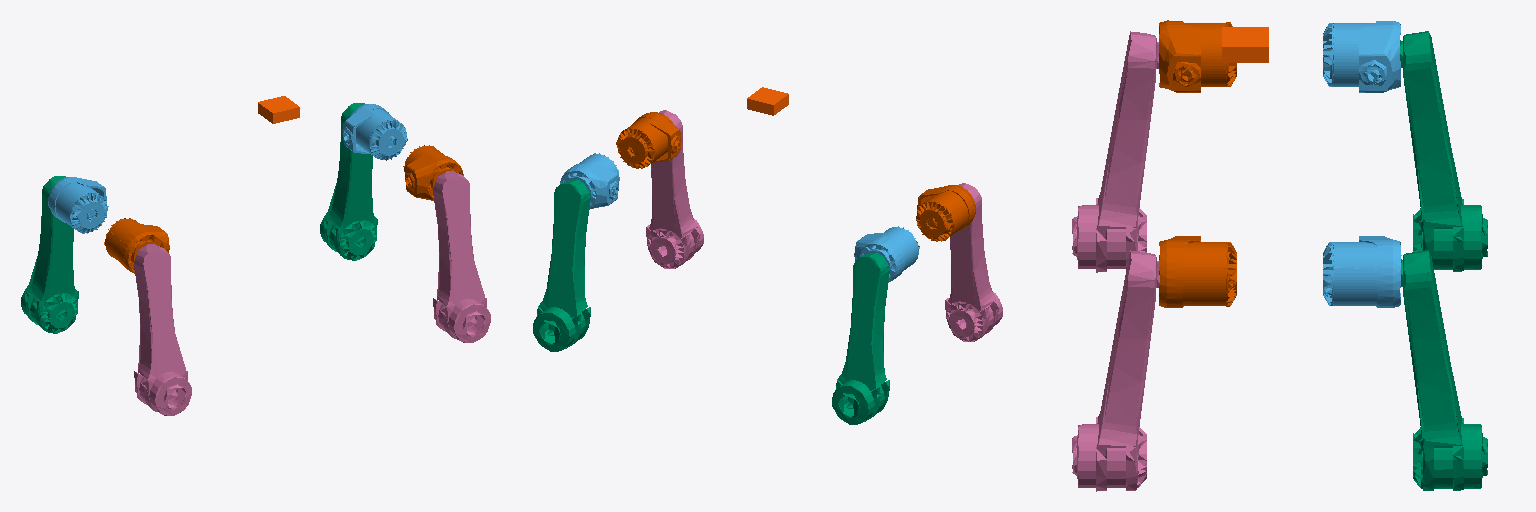
--- Render facts (derived) ---
3 views of the same robot in one strip: view 1: azimuth 30°, elevation 25°; view 2: azimuth 150°, elevation 25°; view 3: azimuth 270°, elevation 25° (orthographic).
Model anymal with 18 links and 17 joints (12 revolute, 5 fixed), rooted at base, posed every joint at zero.
Visible links, largest first — view 1: RH_THIGH, RF_THIGH, LH_THIGH, LF_THIGH, LF_HIP, LH_HIP, RH_HIP, RF_HIP, imu_link; view 2: LH_THIGH, LF_THIGH, RH_THIGH, RF_THIGH, RF_HIP, RH_HIP, LH_HIP, LF_HIP, imu_link; view 3: LF_THIGH, RF_THIGH, LH_THIGH, RH_THIGH, LF_HIP, RF_HIP, LH_HIP, RH_HIP, imu_link.
Boxes of the visible links, x1,y1,x2,y2 form: RH_THIGH: [134, 244, 191, 415]; RF_THIGH: [433, 171, 490, 342]; LH_THIGH: [21, 176, 78, 333]; LF_THIGH: [320, 103, 377, 260]; LF_HIP: [342, 104, 407, 160]; LH_HIP: [48, 177, 108, 233]; RH_HIP: [104, 218, 169, 273]; RF_HIP: [403, 145, 463, 200]; imu_link: [258, 96, 299, 123]; LH_THIGH: [832, 252, 889, 424]; LF_THIGH: [533, 179, 590, 351]; RH_THIGH: [945, 183, 1002, 341]; RF_THIGH: [646, 110, 703, 268]; RF_HIP: [616, 112, 681, 168]; RH_HIP: [916, 185, 975, 241]; LH_HIP: [854, 226, 919, 282]; LF_HIP: [560, 153, 619, 209]; imu_link: [747, 87, 788, 115]; LF_THIGH: [1401, 250, 1487, 490]; RF_THIGH: [1072, 250, 1159, 491]; LH_THIGH: [1400, 31, 1487, 271]; RH_THIGH: [1072, 31, 1158, 272]; LF_HIP: [1323, 236, 1401, 307]; RF_HIP: [1159, 236, 1236, 307]; LH_HIP: [1323, 21, 1400, 92]; RH_HIP: [1159, 20, 1236, 92]; imu_link: [1222, 27, 1268, 62].
Bounding box of the posed robot: 0.7419 × 0.5156 × 0.4789 m (x, y, z).
Meshes: 8 distinct files referenced, 8 mesh visuals loaded (2 Collada DAE); not drawn: 9 (reference not matched to a file when rendering).

robot.urdf — anymal:
<?xml version="1.0" ?>
<!-- =================================================================================== -->
<!-- |    This document was autogenerated by xacro from [local-path]/catkin_ws/src/anymal_beth/anymal_beth_description/urdf/anymal_beth.urdf.xacro | -->
<!-- |    EDITING THIS FILE BY HAND IS NOT RECOMMENDED                                 | -->
<!-- =================================================================================== -->
<!--Copyright (C) 2015 by Dario Bellicoso                                    -->
<[email redacted]                                                 -->
<!--                                                                         -->
<!--This program is free software; you can redistribute it and/or modify     -->
<!--it under the terms of the Lesser GNU General Public License as published -->
<!--by the Free Software Foundation; either version 3 of the License, or     -->
<!--(at your option) any later version.                                      -->
<!--                                                                         -->
<!--This program is distributed in the hope that it will be useful,          -->
<!--but WITHOUT ANY WARRANTY; without even the implied warranty of           -->
<!--MERCHANTABILITY or FITNESS FOR A PARTICULAR PURPOSE. See the             -->
<!--Lesser GNU General Public License for more details.                      -->
<!--                                                                         -->
<!--You should have received a copy of the Lesser GNU General Public License -->
<!--along with this program. If not, see <http://www.gnu.org/licenses/>.     -->
<!-- This file contains the description of the ANYmal Beth robot. -->
<robot name="anymal" xmlns:xacro="http://www.ros.org/wiki/xacro">
    <material name="black">
        <color rgba="0.0 0.0 0.0 1.0"/>
    </material>
    <material name="blue">
        <color rgba="0.0 0.0 0.8 1.0"/>
    </material>
    <material name="green">
        <color rgba="0.0 0.8 0.0 1.0"/>
    </material>
    <material name="grey">
        <color rgba="0.2 0.2 0.2 1.0"/>
    </material>
    <material name="light_grey">
        <color rgba="0.4 0.4 0.4 1.0"/>
    </material>
    <material name="orange">
        <color rgba="1.0 0.423529411765 0.0392156862745 1.0"/>
    </material>
    <material name="brown">
        <color rgba="0.870588235294 0.811764705882 0.764705882353 1.0"/>
    </material>
    <material name="red">
        <color rgba="0.8 0.0 0.0 1.0"/>
    </material>
    <material name="white">
        <color rgba="1.0 1.0 1.0 1.0"/>
    </material>
    <gazebo>
        <plugin filename="libanymal_gazebo.so" name="gazebo_ros_control">
            <robotNamespace>anymal</robotNamespace>
            <!-- Currently unused -->
            <robotDescription>quadruped_description</robotDescription>
            <robotBaseLink>base</robotBaseLink>
            <statePublisherRate>400.0</statePublisherRate>
        </plugin>
    </gazebo>
    <!-- Material for the visual primitives -->
    <material name="anymal_material">
        <color rgba="0 0 0 0"/>
    </material>
    <!-- Xacro:Properties -->
    <!-- [m] -->
    <!-- Base link -->
    <link name="base">
        <visual>
            <origin rpy="0 0 0" xyz="0 0 0"/>
            <geometry>
                <mesh filename="anymal_base_2.dae" scale="0.001 0.001     0.001"/>
            </geometry>
            <material name="anymal_material"/>
        </visual>
        <collision>
            <!-- Main Body -->
            <origin rpy="0 0 0" xyz="0 0 0.08"/>
            <geometry>
                <box size="0.531 0.232 0.26"/>
            </geometry>
        </collision>
        <inertial>
            <origin rpy="0 0 0" xyz="0.0 0.0 0.0"/>
            <mass value="21.39"/>
            <inertia ixx="0.268388530624" ixy="0.000775392455422" ixz="-0.0151848534451" iyy="0.884235660795" iyz="-0.000989297489507" izz="0.829158678306"/>
        </inertial>
    </link>
    <!-- Xacro:Properties -->
    <!-- [m] -->
    <!-- [Nm] -->
    <link name="LF_HIP">
        <visual>
            <origin rpy="3.14159265359 1.5707963268 3.14159265359" xyz="0 0 0"/>
            <geometry>
                <mesh filename="anymal_hip.dae" scale="0.001 0.001     0.001"/>
            </geometry>
        </visual>
        <collision>
            <origin rpy="1.57079632679 0 0" xyz="0.0585 0.0315 0.0"/>
            <geometry>
                <cylinder length="0.08" radius="0.04"/>
            </geometry>
        </collision>
        <inertial>
            <origin rpy="0 0 0" xyz="0.0542 -0.0136 0.0"/>
            <mass value="1.1064"/>
            <inertia ixx="0.00123301508523" ixy="-6.4285329973e-05" ixz="6.9990104e-08" iyy="0.000993231183395" iyz="2.327401345e-06" izz="0.00142160349098"/>
        </inertial>
    </link>
    <!-- Hip joint -->
    <joint name="LF_HAA" type="revolute">
        <parent link="base"/>
        <child link="LF_HIP"/>
        <origin xyz="0.2629 0.115 0.0"/>
        <axis xyz="1 0 0"/>
        <limit effort="80" lower="-6.28" upper="6.28" velocity="15"/>
        <dynamics damping="0.0" friction="0.0"/>
    </joint>
    <!-- Xacro:Properties -->
    <!-- [m] -->
    <!-- [Nm] -->
    <link name="LF_THIGH">
        <visual>
            <origin rpy="0 0 0" xyz="0 0 0"/>
            <geometry>
                <mesh filename="anymal_thigh.dae" scale="0.001 0.001     0.001"/>
            </geometry>
        </visual>
        <!--collision>
            <origin rpy="0.145 0 0" xyz="0 0.02 -0.1"/>
            <geometry>
                <cylinder length="0.2" radius="0.01"/>
            </geometry>
        </collision-->
        <collision>
            <origin rpy="1.57079632679 0 0" xyz="0.0 0.07 -0.25"/>
            <geometry>
                <cylinder length="0.08" radius="0.04"/>
            </geometry>
        </collision>
        <inertial>
            <origin rpy="0 0 0" xyz="0.0008 0.0545 -0.1975"/>
            <mass value="1.51"/>
            <inertia ixx="0.0147571628275" ixy="-1.7996507882e-05" ixz="0.000205877679383" iyy="0.0144188925719" iyz="-0.00181291342366" izz="0.00178449075964"/>
        </inertial>
    </link>
    <!-- Thigh joint -->
    <joint name="LF_HFE" type="revolute">
        <parent link="LF_HIP"/>
        <child link="LF_THIGH"/>
        <origin xyz="0.0585                    0.0315                    0.0"/>
        <axis xyz="0 1 0"/>
        <limit effort="80" lower="-6.28" upper="6.28" velocity="15"/>
        <dynamics damping="0.0" friction="0.0"/>
    </joint>
    <!-- Xacro:Properties -->
    <!-- [m] -->
    <!-- [Nm] -->
    <link name="LF_SHANK">
        <visual>
            <origin rpy="0 0 0.0" xyz="0 0 0"/>
            <geometry>
                <mesh filename="anymal_shank_2_LF.dae" scale="0.001 0.001     0.001"/>
            </geometry>
        </visual>
        <!--collision>
            <origin rpy="0 -0.9 -0.2" xyz="0.04 -0.02 -0.04"/>
            <geometry>
                <cylinder length="0.13" radius="0.015"/>
            </geometry>
        </collision-->
        <collision>
            <origin rpy="-0.0 0.34 0" xyz="0.06 -0.03 -0.18"/>
            <geometry>
                <cylinder length="0.19" radius="0.015"/>
            </geometry>
        </collision>
        <inertial>
            <origin rpy="0 0 0" xyz="0.016355414056 -0.00562219106 -0.064350437219"/>
            <mass value="0.318"/>
            <inertia ixx="0.0037693717909" ixy="-7.7334500762e-05" ixz="-0.000152069372983" iyy="0.00400446467635" iyz="-0.0003218356083" izz="0.000418471691904"/>
        </inertial>
    </link>
    <!-- Shank joint -->
    <joint name="LF_KFE" type="revolute">
        <parent link="LF_THIGH"/>
        <child link="LF_SHANK"/>
        <origin xyz="0.0 0.111 -0.25"/>
        <axis xyz="0 1 0"/>
        <limit effort="80" lower="-6.28" upper="6.28" velocity="15"/>
        <dynamics damping="0.0" friction="0.0"/>
    </joint>
    <!-- Foot mount link -->
    <link name="LF_FOOT_MOUNT">
        <visual>
            <origin rpy="0 0 0" xyz="0 0 0"/>
            <geometry>
                <mesh filename="anymal_optoforce.dae" scale="0.001 0.001     0.001"/>
            </geometry>
        </visual>
        <collision>
            <origin rpy="0 0 0" xyz="0.0 0.0 0"/>
            <geometry>
                <sphere radius="0.03"/>
            </geometry>
        </collision>
        <inertial>
            <origin rpy="0 0 0" xyz="-5.552058e-06 7.1133124e-05 -0.021388647779"/>
            <mass value="0.1922685"/>
            <inertia ixx="8.3086410294e-05" ixy="4.16901601e-07" ixz="3.99054799e-07" iyy="8.2860209667e-05" iyz="-3.45712252e-07" izz="8.1948124086e-05"/>
        </inertial>
    </link>
    <!-- Foot mount joint / ankle -->
    <joint name="LF_ANKLE_JOINT" type="fixed">
        <parent link="LF_SHANK"/>
        <child link="LF_FOOT_MOUNT"/>
        <origin rpy="0.323 0.549 0" xyz="0.0 -0.016 -0.31"/>
    </joint>
    <!-- Xacro:Properties -->
    <!-- [m] -->
    <!-- Gazebo customization -->
    <gazebo reference="LF_FOOT_SENSOR">
        <kp>1000000.0</kp>
        <kd>100.0</kd>
        <mu1>0.8</mu1>
        <mu2>0.8</mu2>
    </gazebo>
    <gazebo reference="LF_MOUNT_TO_SENSOR"/>
    <!-- Xacro:Properties -->
    <!-- [m] -->
    <!-- [Nm] -->
    <link name="RF_HIP">
        <visual>
            <origin rpy="0 -1.57079632679 3.14159265359" xyz="0 0 0"/>
            <geometry>
                <mesh filename="anymal_hip.dae" scale="0.001 0.001     0.001"/>
            </geometry>
        </visual>
        <collision>
            <origin rpy="1.57079632679 0 0" xyz="0.0585 -0.0315 0.0"/>
            <geometry>
                <cylinder length="0.08" radius="0.04"/>
            </geometry>
        </collision>
        <inertial>
            <origin rpy="0 0 0" xyz="0.0542 0.0136 0.0"/>
            <mass value="1.1064"/>
            <inertia ixx="0.00123301508523" ixy="6.4285329973e-05" ixz="6.9990104e-08" iyy="0.000993231183395" iyz="-2.327401345e-06" izz="0.00142160349098"/>
        </inertial>
    </link>
    <!-- Hip joint -->
    <joint name="RF_HAA" type="revolute">
        <parent link="base"/>
        <child link="RF_HIP"/>
        <origin xyz="0.2629 -0.115 0.0"/>
        <axis xyz="1 0 0"/>
        <limit effort="80" lower="-6.28" upper="6.28" velocity="15"/>
        <dynamics damping="0.0" friction="0.0"/>
    </joint>
    <!-- Xacro:Properties -->
    <!-- [m] -->
    <!-- [Nm] -->
    <link name="RF_THIGH">
        <visual>
            <origin rpy="0 0 3.14159265359" xyz="0 0 0"/>
            <geometry>
                <mesh filename="anymal_thigh.dae" scale="0.001 0.001     0.001"/>
            </geometry>
        </visual>
        <!--collision>
            <origin rpy="-0.145 0 0" xyz="0 -0.02 -0.1"/>
            <geometry>
                <cylinder length="0.2" radius="0.01"/>
            </geometry>
        </collision-->
        <collision>
            <origin rpy="1.57079632679 0 0" xyz="0.0 -0.07 -0.25"/>
            <geometry>
                <cylinder length="0.08" radius="0.04"/>
            </geometry>
        </collision>
        <inertial>
            <origin rpy="0 0 0" xyz="0.0008 -0.0545 -0.1975"/>
            <mass value="1.51"/>
            <inertia ixx="0.0147571628275" ixy="1.7996507882e-05" ixz="0.000205877679383" iyy="0.0144188925719" iyz="0.00181291342366" izz="0.00178449075964"/>
        </inertial>
    </link>
    <!-- Thigh joint -->
    <joint name="RF_HFE" type="revolute">
        <parent link="RF_HIP"/>
        <child link="RF_THIGH"/>
        <origin xyz="0.0585                    -0.0315                    0.0"/>
        <axis xyz="0 1 0"/>
        <limit effort="80" lower="-6.28" upper="6.28" velocity="15"/>
        <dynamics damping="0.0" friction="0.0"/>
    </joint>
    <!-- Xacro:Properties -->
    <!-- [m] -->
    <!-- [Nm] -->
    <link name="RF_SHANK">
        <visual>
            <origin rpy="3.14159265359 3.14159265359 3.14159265359" xyz="0 0 0"/>
            <geometry>
                <mesh filename="anymal_shank_2_RF.dae" scale="0.001 0.001     0.001"/>
            </geometry>
        </visual>
        <!--collision>
            <origin rpy="0 -0.9 0.2" xyz="0.04 0.02 -0.04"/>
            <geometry>
                <cylinder length="0.13" radius="0.015"/>
            </geometry>
        </collision-->
        <collision>
            <origin rpy="0.0 0.34 0" xyz="0.06 0.03 -0.18"/>
            <geometry>
                <cylinder length="0.19" radius="0.015"/>
            </geometry>
        </collision>
        <inertial>
            <origin rpy="0 0 0" xyz="0.016355414056 0.00562219106 -0.064350437219"/>
            <mass value="0.318"/>
            <inertia ixx="0.0037693717909" ixy="7.7334500762e-05" ixz="-0.000152069372983" iyy="0.00400446467635" iyz="0.0003218356083" izz="0.000418471691904"/>
        </inertial>
    </link>
    <!-- Shank joint -->
    <joint name="RF_KFE" type="revolute">
        <parent link="RF_THIGH"/>
        <child link="RF_SHANK"/>
        <origin xyz="0.0 -0.111 -0.25"/>
        <axis xyz="0 1 0"/>
        <limit effort="80" lower="-6.28" upper="6.28" velocity="15"/>
        <dynamics damping="0.0" friction="0.0"/>
    </joint>
    <!-- Foot mount link -->
    <link name="RF_FOOT_MOUNT">
        <visual>
            <origin rpy="0 0 0" xyz="0 0 0"/>
            <geometry>
                <mesh filename="anymal_optoforce.dae" scale="0.001 0.001     0.001"/>
            </geometry>
        </visual>
        <collision>
            <origin rpy="0 0 0" xyz="0.0 0.0 0"/>
            <geometry>
                <sphere radius="0.03"/>
            </geometry>
        </collision>
        <inertial>
            <origin rpy="0 0 0" xyz="-5.552058e-06 -7.1133124e-05 -0.021388647779"/>
            <mass value="0.1922685"/>
            <inertia ixx="8.3086410294e-05" ixy="-4.16901601e-07" ixz="3.99054799e-07" iyy="8.2860209667e-05" iyz="3.45712252e-07" izz="8.1948124086e-05"/>
        </inertial>
    </link>
    <!-- Foot mount joint / ankle -->
    <joint name="RF_ANKLE_JOINT" type="fixed">
        <parent link="RF_SHANK"/>
        <child link="RF_FOOT_MOUNT"/>
        <origin rpy="-0.323 0.549 0" xyz="0.0 0.016 -0.31"/>
    </joint>
    <!-- Xacro:Properties -->
    <!-- [m] -->
    <!-- Gazebo customization -->
    <gazebo reference="RF_FOOT_SENSOR">
        <kp>1000000.0</kp>
        <kd>100.0</kd>
        <mu1>0.8</mu1>
        <mu2>0.8</mu2>
    </gazebo>
    <gazebo reference="RF_MOUNT_TO_SENSOR"/>
    <!-- Xacro:Properties -->
    <!-- [m] -->
    <!-- [Nm] -->
    <link name="LH_HIP">
        <visual>
            <origin rpy="0 -1.5707963268 0" xyz="0 0 0"/>
            <geometry>
                <mesh filename="anymal_hip.dae" scale="0.001 0.001     0.001"/>
            </geometry>
        </visual>
        <collision>
            <origin rpy="-1.57079632679 0 0" xyz="-0.0585 0.0315 0.0"/>
            <geometry>
                <cylinder length="0.08" radius="0.04"/>
            </geometry>
        </collision>
        <inertial>
            <origin rpy="0 0 0" xyz="-0.0542 -0.0136 0.0"/>
            <mass value="1.1064"/>
            <inertia ixx="0.00123301508523" ixy="6.4285329973e-05" ixz="-6.9990104e-08" iyy="0.000993231183395" iyz="2.327401345e-06" izz="0.00142160349098"/>
        </inertial>
    </link>
    <!-- Hip joint -->
    <joint name="LH_HAA" type="revolute">
        <parent link="base"/>
        <child link="LH_HIP"/>
        <origin xyz="-0.2629 0.115 0.0"/>
        <axis xyz="1 0 0"/>
        <limit effort="80" lower="-6.28" upper="6.28" velocity="15"/>
        <dynamics damping="0.0" friction="0.0"/>
    </joint>
    <!-- Xacro:Properties -->
    <!-- [m] -->
    <!-- [Nm] -->
    <link name="LH_THIGH">
        <visual>
            <origin rpy="0 0 0" xyz="0 0 0"/>
            <geometry>
                <mesh filename="anymal_thigh.dae" scale="0.001 0.001     0.001"/>
            </geometry>
        </visual>
        <!--collision>
            <origin rpy="0.145 0 0" xyz="0 0.02 -0.1"/>
            <geometry>
                <cylinder length="0.2" radius="0.01"/>
            </geometry>
        </collision-->
        <collision>
            <origin rpy="1.57079632679 0 0" xyz="0.0 0.07 -0.25"/>
            <geometry>
                <cylinder length="0.08" radius="0.04"/>
            </geometry>
        </collision>
        <inertial>
            <origin rpy="0 0 0" xyz="-0.0008 0.0545 -0.1975"/>
            <mass value="1.51"/>
            <inertia ixx="0.0147571628275" ixy="1.7996507882e-05" ixz="-0.000205877679383" iyy="0.0144188925719" iyz="-0.00181291342366" izz="0.00178449075964"/>
        </inertial>
    </link>
    <!-- Thigh joint -->
    <joint name="LH_HFE" type="revolute">
        <parent link="LH_HIP"/>
        <child link="LH_THIGH"/>
        <origin xyz="-0.0585                    0.0315                    0.0"/>
        <axis xyz="0 1 0"/>
        <limit effort="80" lower="-6.28" upper="6.28" velocity="15"/>
        <dynamics damping="0.0" friction="0.0"/>
    </joint>
    <!-- Xacro:Properties -->
    <!-- [m] -->
    <!-- [Nm] -->
    <link name="LH_SHANK">
        <visual>
            <origin rpy="0 0 0" xyz="0 0 0"/>
            <geometry>
                <mesh filename="anymal_shank_2_LH.dae" scale="0.001 0.001     0.001"/>
            </geometry>
        </visual>
        <!--collision>
            <origin rpy="0 0.9 0.2" xyz="-0.04 -0.02 -0.04"/>
            <geometry>
                <cylinder length="0.13" radius="0.015"/>
            </geometry>
        </collision-->
        <collision>
            <origin rpy="-0.0 -0.34 0" xyz="-0.06 -0.03 -0.18"/>
            <geometry>
                <cylinder length="0.19" radius="0.015"/>
            </geometry>
        </collision>
        <inertial>
            <origin rpy="0 0 0" xyz="-0.016355414056 -0.00562219106 -0.064350437219"/>
            <mass value="0.318"/>
            <inertia ixx="0.0037693717909" ixy="7.7334500762e-05" ixz="0.000152069372983" iyy="0.00400446467635" iyz="-0.0003218356083" izz="0.000418471691904"/>
        </inertial>
    </link>
    <!-- Shank joint -->
    <joint name="LH_KFE" type="revolute">
        <parent link="LH_THIGH"/>
        <child link="LH_SHANK"/>
        <origin xyz="-0.0 0.111 -0.25"/>
        <axis xyz="0 1 0"/>
        <limit effort="80" lower="-6.28" upper="6.28" velocity="15"/>
        <dynamics damping="0.0" friction="0.0"/>
    </joint>
    <!-- Foot mount link -->
    <link name="LH_FOOT_MOUNT">
        <visual>
            <origin rpy="0 0 0" xyz="0 0 0"/>
            <geometry>
                <mesh filename="anymal_optoforce.dae" scale="0.001 0.001     0.001"/>
            </geometry>
        </visual>
        <collision>
            <origin rpy="0 0 0" xyz="0.0 0.0 0"/>
            <geometry>
                <sphere radius="0.03"/>
            </geometry>
        </collision>
        <inertial>
            <origin rpy="0 0 0" xyz="5.552058e-06 7.1133124e-05 -0.021388647779"/>
            <mass value="0.1922685"/>
            <inertia ixx="8.3086410294e-05" ixy="-4.16901601e-07" ixz="-3.99054799e-07" iyy="8.2860209667e-05" iyz="-3.45712252e-07" izz="8.1948124086e-05"/>
        </inertial>
    </link>
    <!-- Foot mount joint / ankle -->
    <joint name="LH_ANKLE_JOINT" type="fixed">
        <parent link="LH_SHANK"/>
        <child link="LH_FOOT_MOUNT"/>
        <origin rpy="0.323 -0.549 0" xyz="-0.0 -0.016 -0.31"/>
    </joint>
    <!-- Xacro:Properties -->
    <!-- [m] -->
    <!-- Gazebo customization -->
    <gazebo reference="LH_FOOT_SENSOR">
        <kp>1000000.0</kp>
        <kd>100.0</kd>
        <mu1>0.8</mu1>
        <mu2>0.8</mu2>
    </gazebo>
    <gazebo reference="LH_MOUNT_TO_SENSOR"/>
    <!-- Xacro:Properties -->
    <!-- [m] -->
    <!-- [Nm] -->
    <link name="RH_HIP">
        <visual>
            <origin rpy="1.5707963268 1.5707963268 -1.5707963268" xyz="0 0 0"/>
            <geometry>
                <mesh filename="anymal_hip.dae" scale="0.001 0.001     0.001"/>
            </geometry>
        </visual>
        <collision>
            <origin rpy="-1.57079632679 0 0" xyz="-0.0585 -0.0315 0.0"/>
            <geometry>
                <cylinder length="0.08" radius="0.04"/>
            </geometry>
        </collision>
        <inertial>
            <origin rpy="0 0 0" xyz="-0.0542 0.0136 0.0"/>
            <mass value="1.1064"/>
            <inertia ixx="0.00123301508523" ixy="-6.4285329973e-05" ixz="-6.9990104e-08" iyy="0.000993231183395" iyz="-2.327401345e-06" izz="0.00142160349098"/>
        </inertial>
    </link>
    <!-- Hip joint -->
    <joint name="RH_HAA" type="revolute">
        <parent link="base"/>
        <child link="RH_HIP"/>
        <origin xyz="-0.2629 -0.115 0.0"/>
        <axis xyz="1 0 0"/>
        <limit effort="80" lower="-6.28" upper="6.28" velocity="15"/>
        <dynamics damping="0.0" friction="0.0"/>
    </joint>
    <!-- Xacro:Properties -->
    <!-- [m] -->
    <!-- [Nm] -->
    <link name="RH_THIGH">
        <visual>
            <origin rpy="0 0 3.14159265359" xyz="0 0 0"/>
            <geometry>
                <mesh filename="anymal_thigh.dae" scale="0.001 0.001     0.001"/>
            </geometry>
        </visual>
        <!--collision>
            <origin rpy="-0.145 0 0" xyz="0 -0.02 -0.1"/>
            <geometry>
                <cylinder length="0.2" radius="0.01"/>
            </geometry>
        </collision-->
        <collision>
            <origin rpy="1.57079632679 0 0" xyz="0.0 -0.07 -0.25"/>
            <geometry>
                <cylinder length="0.08" radius="0.04"/>
            </geometry>
        </collision>
        <inertial>
            <origin rpy="0 0 0" xyz="-0.0008 -0.0545 -0.1975"/>
            <mass value="1.51"/>
            <inertia ixx="0.0147571628275" ixy="-1.7996507882e-05" ixz="-0.000205877679383" iyy="0.0144188925719" iyz="0.00181291342366" izz="0.00178449075964"/>
        </inertial>
    </link>
    <!-- Thigh joint -->
    <joint name="RH_HFE" type="revolute">
        <parent link="RH_HIP"/>
        <child link="RH_THIGH"/>
        <origin xyz="-0.0585                    -0.0315                    0.0"/>
        <axis xyz="0 1 0"/>
        <limit effort="80" lower="-6.28" upper="6.28" velocity="15"/>
        <dynamics damping="0.0" friction="0.0"/>
    </joint>
    <!-- Xacro:Properties -->
    <!-- [m] -->
    <!-- [Nm] -->
    <link name="RH_SHANK">
        <visual>
            <origin rpy="0 0 0" xyz="0 0 0"/>
            <geometry>
                <mesh filename="anymal_shank_2_RH.dae" scale="0.001 0.001     0.001"/>
            </geometry>
        </visual>
        <!--collision>
            <origin rpy="0 0.9 -0.2" xyz="-0.04 0.02 -0.04"/>
            <geometry>
                <cylinder length="0.13" radius="0.015"/>
            </geometry>
        </collision-->
        <collision>
            <origin rpy="0.0 -0.34 0" xyz="-0.06 0.03 -0.18"/>
            <geometry>
                <cylinder length="0.19" radius="0.015"/>
            </geometry>
        </collision>
        <inertial>
            <origin rpy="0 0 0" xyz="-0.016355414056 0.00562219106 -0.064350437219"/>
            <mass value="0.318"/>
            <inertia ixx="0.0037693717909" ixy="-7.7334500762e-05" ixz="0.000152069372983" iyy="0.00400446467635" iyz="0.0003218356083" izz="0.000418471691904"/>
        </inertial>
    </link>
    <!-- Shank joint -->
    <joint name="RH_KFE" type="revolute">
        <parent link="RH_THIGH"/>
        <child link="RH_SHANK"/>
        <origin xyz="-0.0 -0.111 -0.25"/>
        <axis xyz="0 1 0"/>
        <limit effort="80" lower="-6.28" upper="6.28" velocity="15"/>
        <dynamics damping="0.0" friction="0.0"/>
    </joint>
    <!-- Foot mount link -->
    <link name="RH_FOOT_MOUNT">
        <visual>
            <origin rpy="0 0 0" xyz="0 0 0"/>
            <geometry>
                <mesh filename="anymal_optoforce.dae" scale="0.001 0.001     0.001"/>
            </geometry>
        </visual>
        <collision>
            <origin rpy="0 0 0" xyz="0.0 0.0 0"/>
            <geometry>
                <sphere radius="0.03"/>
            </geometry>
        </collision>
        <inertial>
            <origin rpy="0 0 0" xyz="5.552058e-06 -7.1133124e-05 -0.021388647779"/>
            <mass value="0.1922685"/>
            <inertia ixx="8.3086410294e-05" ixy="4.16901601e-07" ixz="-3.99054799e-07" iyy="8.2860209667e-05" iyz="3.45712252e-07" izz="8.1948124086e-05"/>
        </inertial>
    </link>
    <!-- Foot mount joint / ankle -->
    <joint name="RH_ANKLE_JOINT" type="fixed">
        <parent link="RH_SHANK"/>
        <child link="RH_FOOT_MOUNT"/>
        <origin rpy="-0.323 -0.549 0" xyz="-0.0 0.016 -0.31"/>
    </joint>
    <!-- Xacro:Properties -->
    <!-- [m] -->
    <!-- Gazebo customization -->
    <gazebo reference="RH_FOOT_SENSOR">
        <kp>1000000.0</kp>
        <kd>100.0</kd>
        <mu1>0.8</mu1>
        <mu2>0.8</mu2>
    </gazebo>
    <gazebo reference="RH_MOUNT_TO_SENSOR"/>
    <link name="imu_link">
        <visual>
            <origin rpy="0 0 0" xyz="0 0 0.011"/>
            <geometry>
                <box size="0.058 0.058 0.022"/>
            </geometry>
            <material name="orange"/>
        </visual>
        <collision>
            <origin rpy="0 0 0" xyz="0 0 0.011"/>
            <geometry>
                <box size="0.058 0.058 0.022"/>
            </geometry>
        </collision>
        <inertial>
            <mass value="0.05"/>
            <origin xyz="0 0 0"/>
            <inertia ixx="1.60333333333e-05" ixy="0.0" ixz="0.0" iyy="2.80333333333e-05" iyz="0.0" izz="1.60333333333e-05"/>
        </inertial>
    </link>
    <joint name="imu_joint" type="fixed">
        <parent link="base"/>
        <child link="imu_link"/>
        <origin rpy="3.14159265359 0 0" xyz="0.0245 -0.04255 0.1857"/>
    </joint>
    <gazebo reference="imu_link">
        <material>Gazebo/Orange</material>
        <mu1>0.8</mu1>
        <mu2>0.8</mu2>
    </gazebo>
    <gazebo reference="imu_joint">
    </gazebo>
    <gazebo>
        <plugin filename="libhector_gazebo_ros_imu.so" name="imu_plugin">
            <robotNamespace>sensors</robotNamespace>
            <bodyName>imu_link</bodyName>
            <frameId>/imu_link</frameId>
            <topicName>imu</topicName>
            <biasTopicName>imu/bias</biasTopicName>
            <serviceName>imu/calibrate</serviceName>
            <updateRate>400</updateRate>
        </plugin>
    </gazebo>
    <!-- Omniview -->
    <!-- <xacro:include filename="$(find anymal_beth_description)/urdf/omniview/anymal_beth_omniview_macro.urdf.xacro"/> -->
    <!-- <xacro:anymal_beth_omniview_mesh link_name="omniview_mesh_front" parent_name="base" joint_name="omniview_mesh_front_joint"> -->
    <!-- <origin xyz="0.3312 0.0 0.025" rpy="-1.57079632679 0.0 0.0"/> -->
    <!-- </xacro:anymal_beth_omniview_mesh> -->
    <!-- <xacro:anymal_beth_omniview_mesh link_name="omniview_mesh_back" parent_name="base" joint_name="omniview_mesh_back_joint"> -->
    <!-- <origin xyz="-0.3312 0.0 0.025" rpy="-1.57079632679 0.0 3.14159265359"/> -->
    <!-- </xacro:anymal_beth_omniview_mesh> -->
    <!--<link name="static_lidar_front"/>-->
    <!--<joint name="base_to_static_lidar_front" type="fixed">-->
        <!--<origin rpy="1.57079632679 0.0 1.57079632679" xyz="0.2 0.0 0.1415"/>-->
        <!--<parent link="base"/>-->
        <!--<child link="static_lidar_front"/>-->
        <!--<origin rpy="0 0 0" xyz="0 0 0"/>-->
    <!--</joint>-->
    <!-- <xacro:anymal_lidar_fix name="static_lidar_back" parent="base" dynamixel_lidar_offset="0.1515">
        <origin xyz="-0.2 0.0 0.1415" rpy="1.57079632679 0.0 -1.57079632679"/>
      </xacro:anymal_lidar_fix> -->
</robot>
